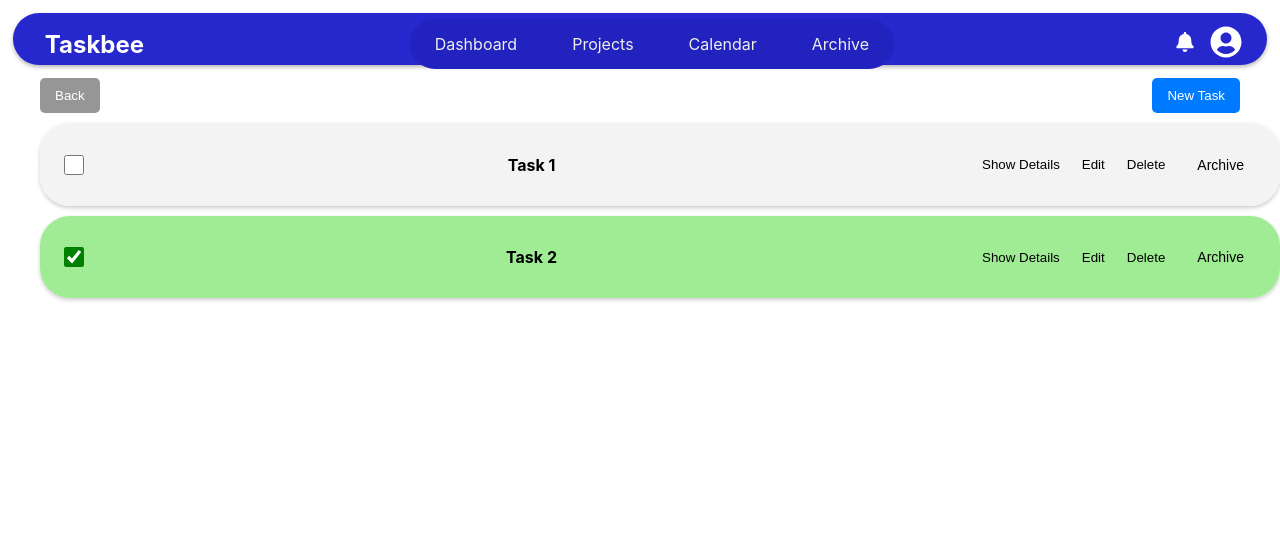
Test: renders task list when tasks are fetched
Expected: the heading "Task 2" is shown, [506,247,557,267]
Click the heading "Task 1".
click(531, 164)  # box [508,154,555,174]
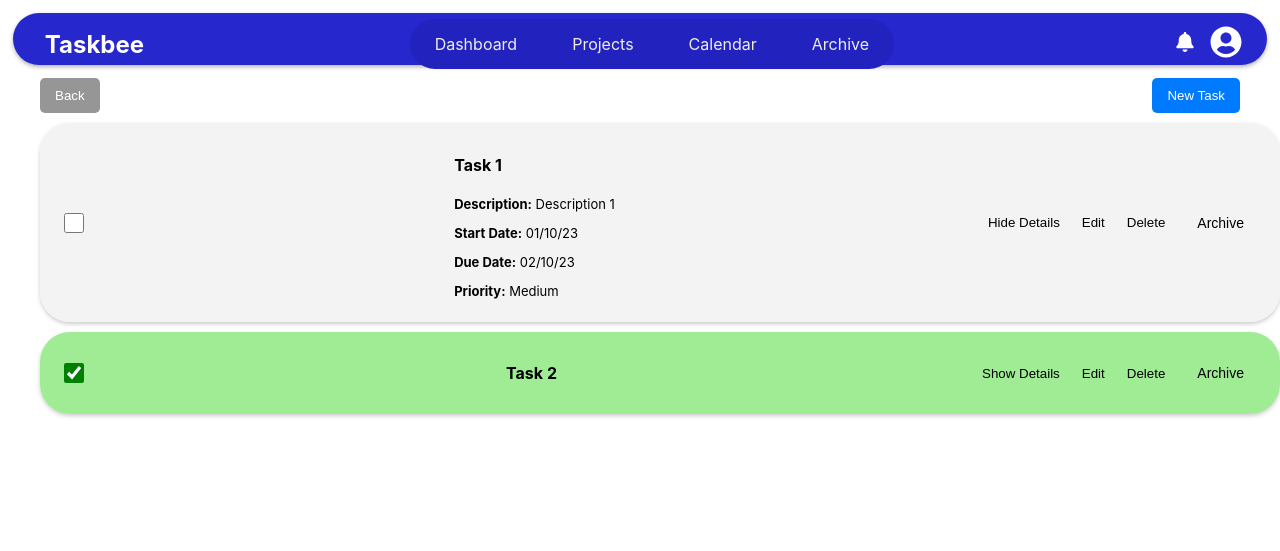
Now the text "Description: Description 1" is shown, box [454,196,615,212]
Click the heading "Task 2".
click(531, 373)  # box [506,363,557,383]
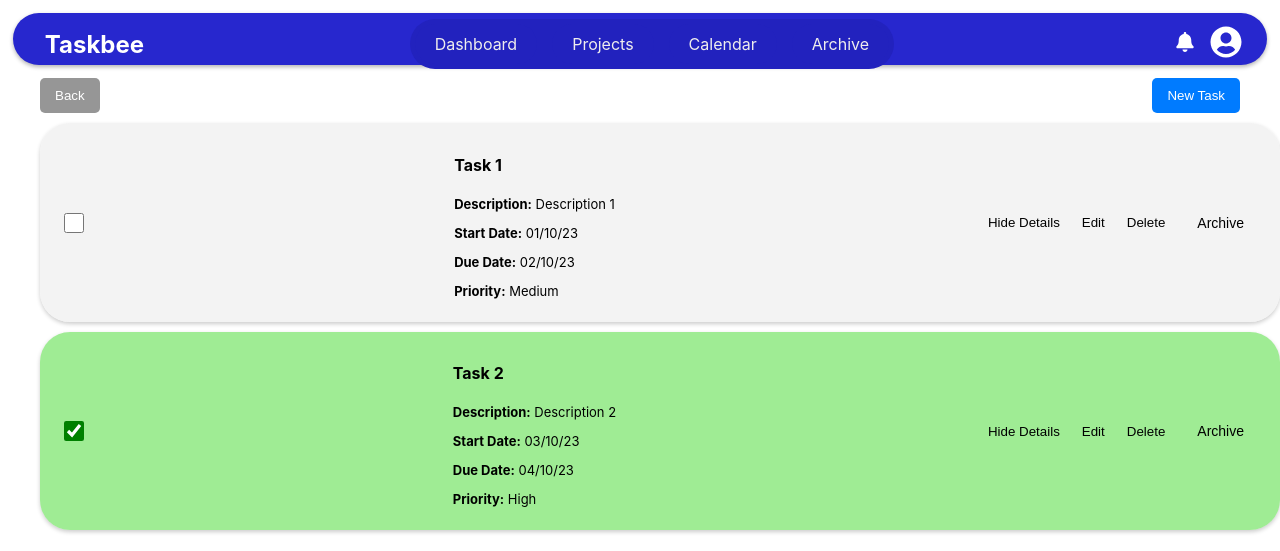
Now the text "Description: Description 2" is shown, box [453,404,616,420]
